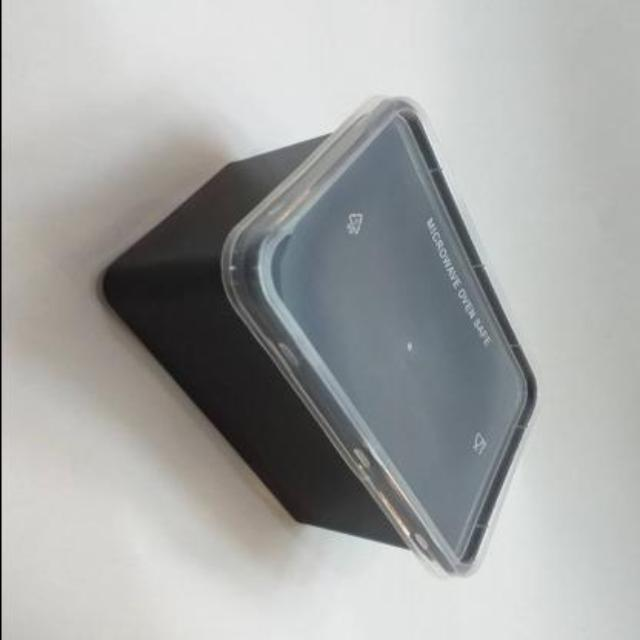plastic_box: (96, 100, 538, 568)
